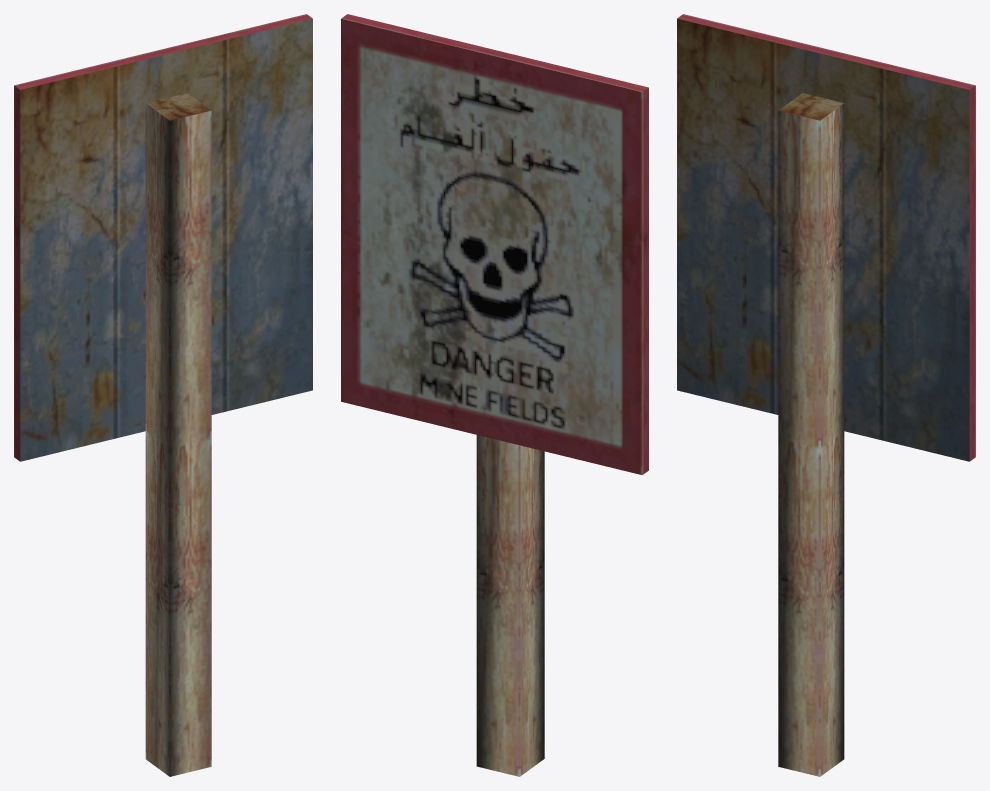
File: M09_MineSign.glb
3 views of the same model, side by side, from view 1: azimuth 30°, elevation 25°; view 2: azimuth 150°, elevation 25°; view 3: azimuth 330°, elevation 25° (orthographic). The views are drawn at different scales.
Visible parts, largest first — view 1: M09_MINESIGN; view 2: M09_MINESIGN; view 3: M09_MINESIGN.
Boxes of the visible parts, x1,y1,x2,y2 form: M09_MINESIGN: [14, 14, 312, 776]; M09_MINESIGN: [341, 14, 648, 776]; M09_MINESIGN: [677, 14, 975, 776].
Bounding box in the file's own units: 0.7 × 1.6 × 0.126.
2 materials, 2 textured.
